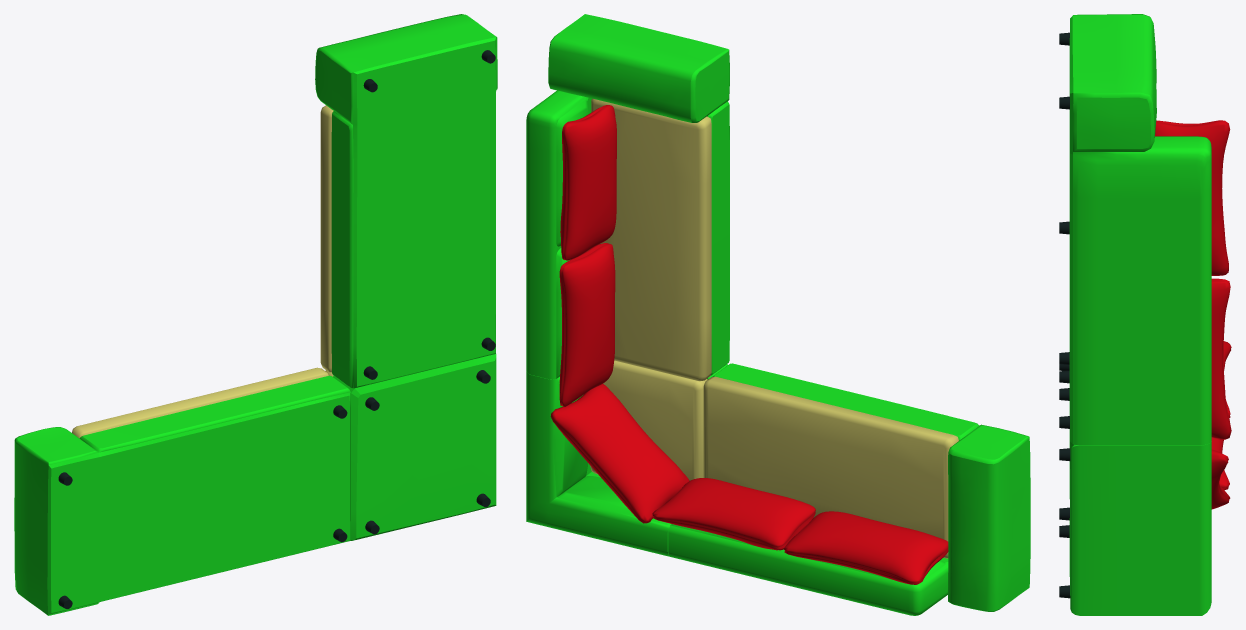
The model's file is couch_full.fbx.
The picture shows the model from 3 angles, left to right: view 1: azimuth 30°, elevation 25°; view 2: azimuth 150°, elevation 25°; view 3: azimuth 270°, elevation 25°; orthographic projection. The views are drawn at different scales.
Parts seen in each view (by area): view 1: Cube.001; view 2: Cube.001; view 3: Cube.001.
Boxes of the visible parts, x1,y1,x2,y2 form: Cube.001: (14, 14, 497, 615); Cube.001: (526, 14, 1030, 615); Cube.001: (1059, 14, 1231, 615).
Bounding box in the file's own units: 246 × 246 × 73.09.
